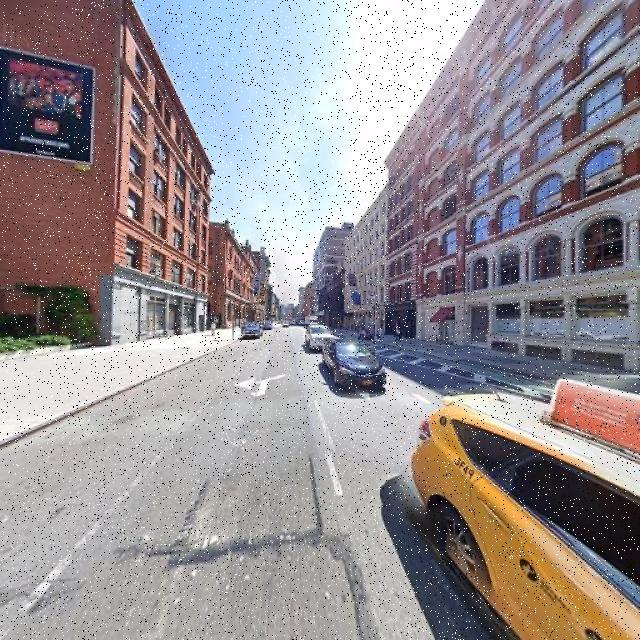Building: (347, 1, 640, 377), (114, 1, 207, 347)
